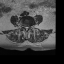CCS_normal: (26, 24, 27, 33)
LFS_severe_stenosis: (29, 24, 31, 29)
LLS_stenosis: (27, 24, 29, 30)
RFS_stenosis: (22, 23, 24, 28)
RLS_stenosis: (24, 24, 26, 30)
